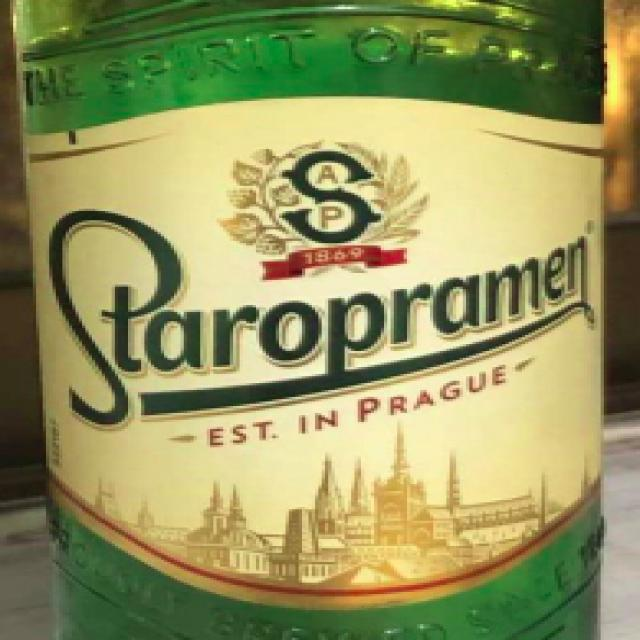Staropramen: (3, 2, 640, 640)
